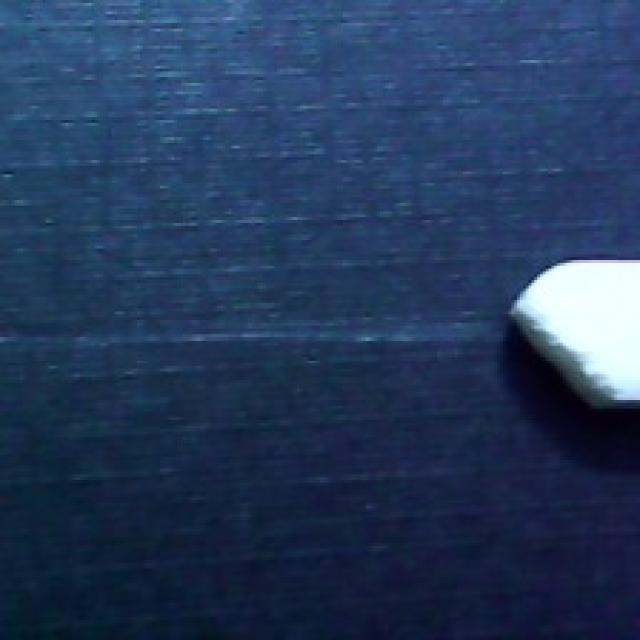defected: (506, 257, 640, 420)
